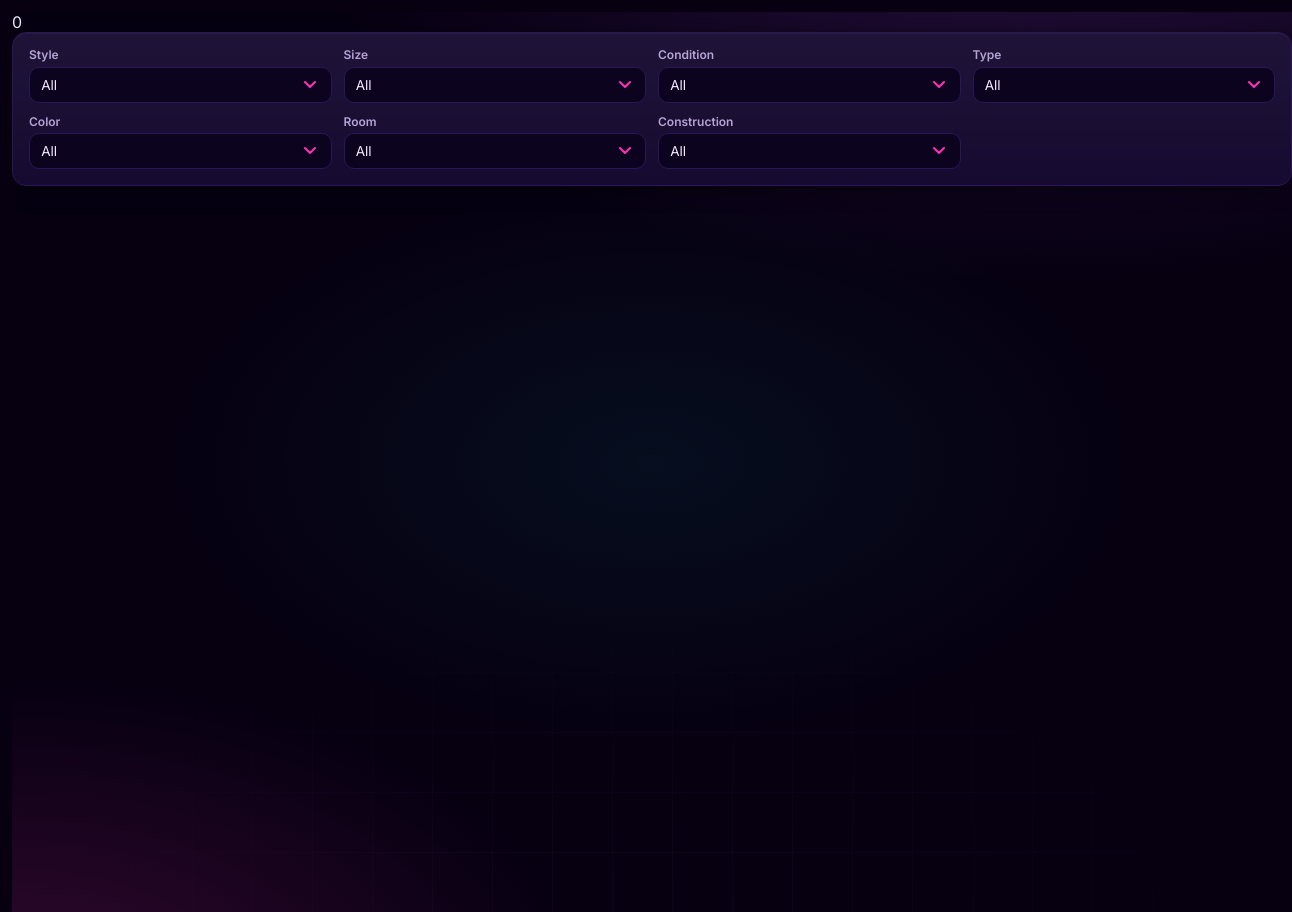
Test case: HatFilterBar › updates filter state and the active count as selections are made
This screenshot has width=1292, height=912.
Expected: the text with test id "active" reads "0", [12,12,22,32]
Select "Odysea" in the dropdown labelled "Style" at (180, 85), box [29,67,332,103]
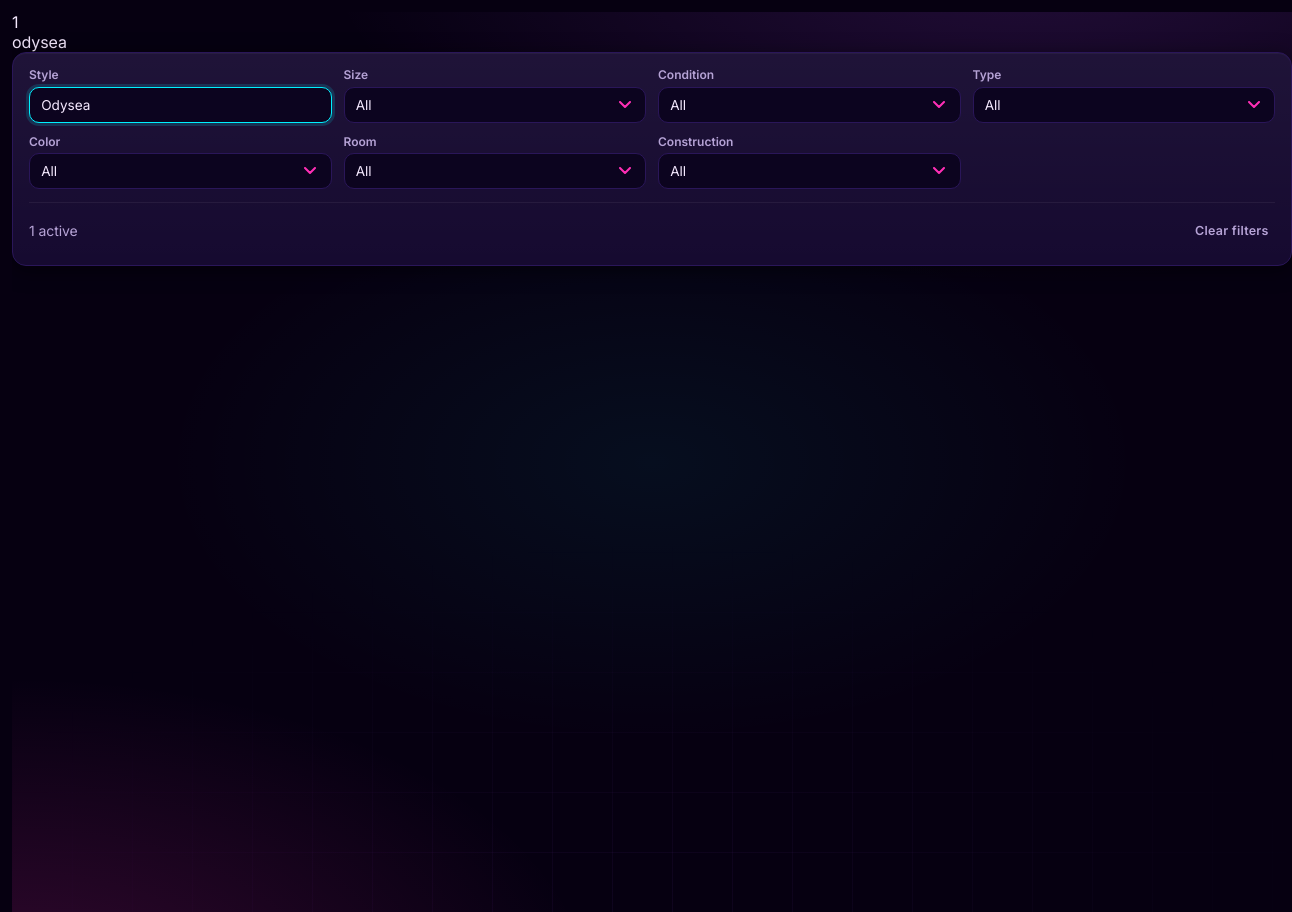
Expected: the text with test id "style" reads "odysea", [12,32,67,52]
Expected: the text with test id "active" reads "1", [12,12,18,32]
Select "Closet" in the dropdown labelled "Room" at (495, 171), box [344,153,646,189]
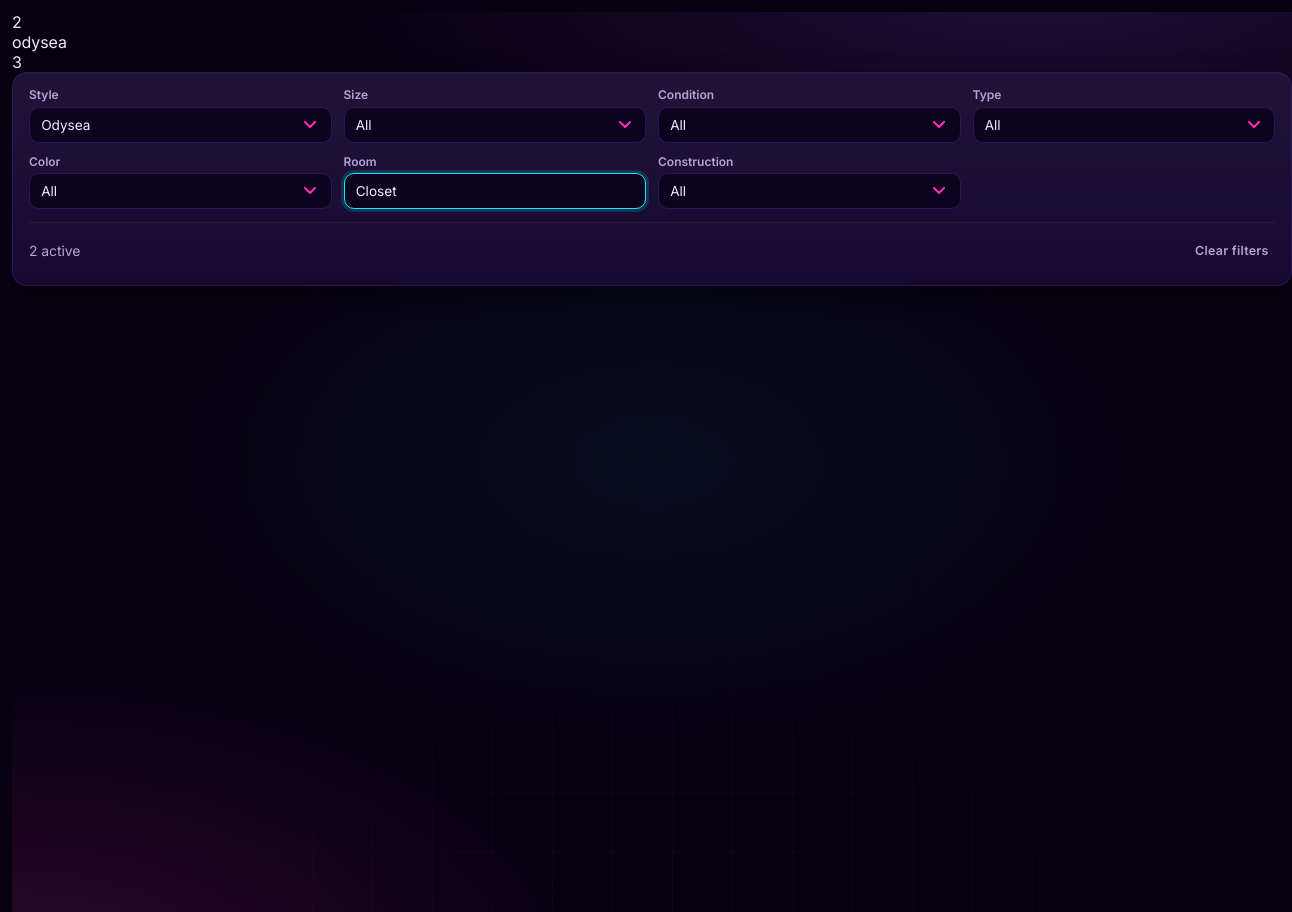
Expected: the text with test id "active" reads "2", [12,12,22,32]
